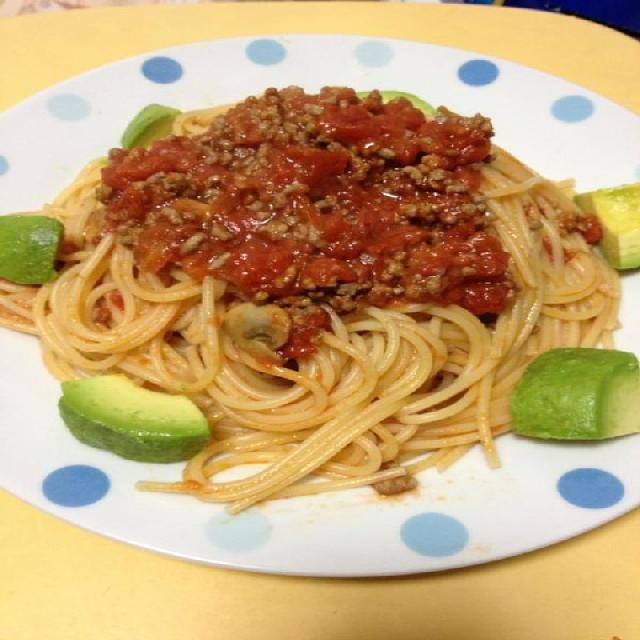Pasta: (67, 94, 610, 420)
